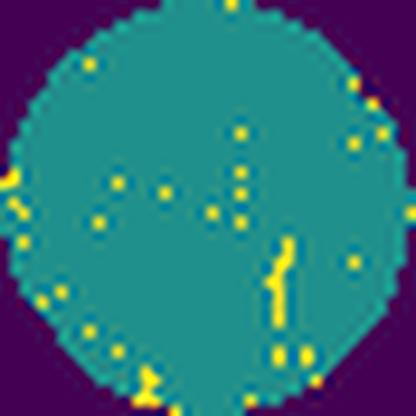Scratch: (256, 233, 303, 335)
